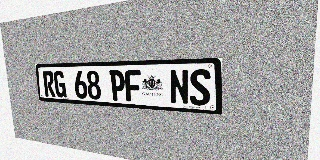6: (73, 71, 88, 99)
8: (86, 70, 101, 100)
F: (124, 70, 142, 102)
G: (53, 71, 67, 98)
N: (169, 69, 189, 105)
P: (109, 70, 126, 101)
R: (42, 71, 55, 97)
S: (189, 69, 210, 106)
